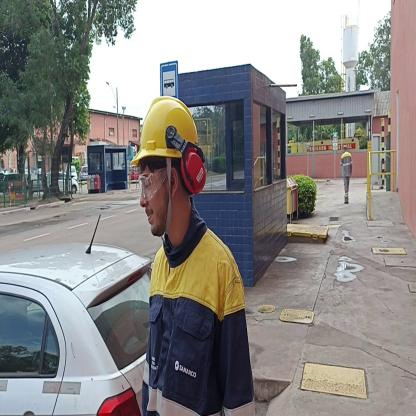C_eletrica: (146, 242, 252, 416)
Capacete: (136, 93, 201, 158)
